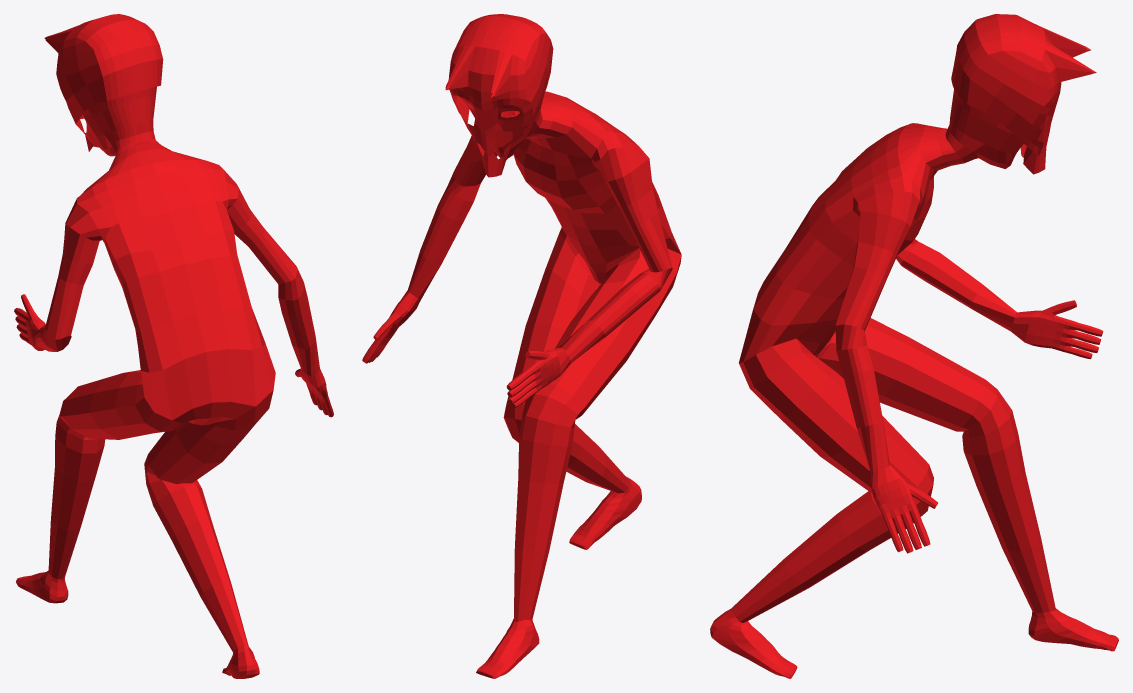
File: saltoadelanteE_000138.obj
3 views of the same model, side by side, from view 1: azimuth 30°, elevation 25°; view 2: azimuth 150°, elevation 25°; view 3: azimuth 270°, elevation 25° (orthographic). The views are drawn at different scales.
Visible parts, largest first — view 1: Plane.002_Plane.001; view 2: Plane.002_Plane.001; view 3: Plane.002_Plane.001.
Part boxes in pixels (<box>): Plane.002_Plane.001: <box>14,14,333,678</box>; Plane.002_Plane.001: <box>362,14,681,678</box>; Plane.002_Plane.001: <box>710,14,1118,678</box>.
Size of the model in its own units: 2.83 by 5.53 by 3.19.
